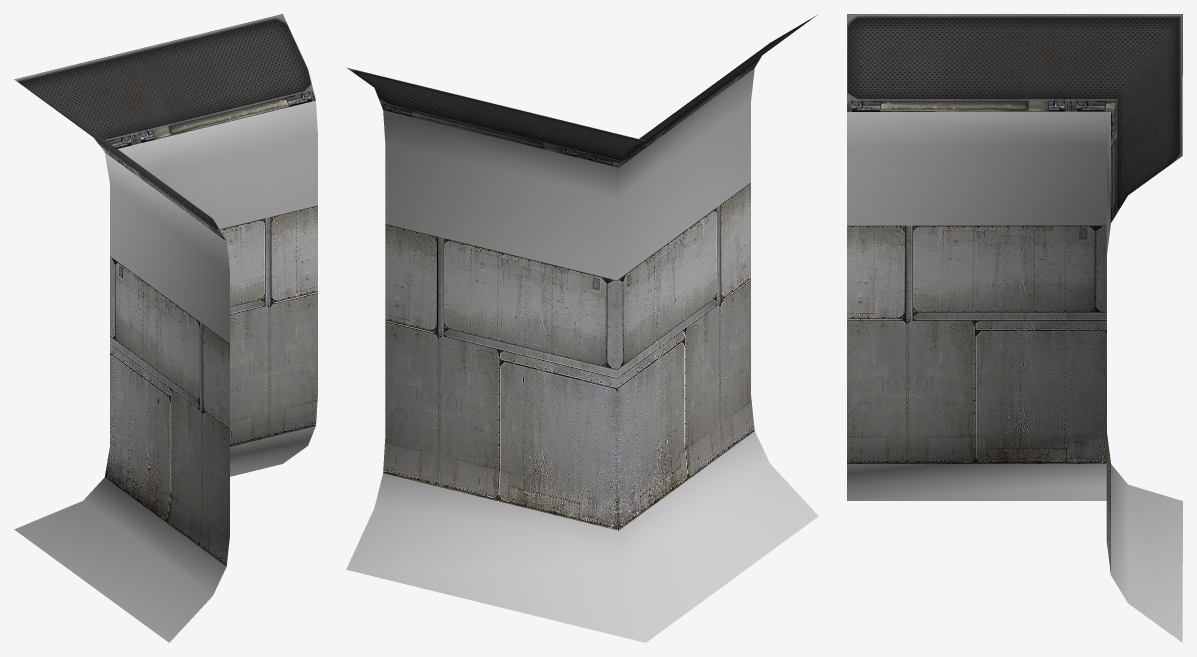
File: Wall_L_Mid4mts_20.fbx
3 views of the same model, side by side, from view 1: azimuth 30°, elevation 25°; view 2: azimuth 150°, elevation 25°; view 3: azimuth 270°, elevation 25° (orthographic). The views are drawn at different scales.
Parts seen in each view (by area): view 1: Wall_L_Mid4mts_20; view 2: Wall_L_Mid4mts_20; view 3: Wall_L_Mid4mts_20.
Boxes of the visible parts, <box> form: Wall_L_Mid4mts_20: <box>14,14,317,642</box>; Wall_L_Mid4mts_20: <box>346,15,818,642</box>; Wall_L_Mid4mts_20: <box>847,14,1182,642</box>.
Size of the model in its own units: 250 by 400 by 250.
